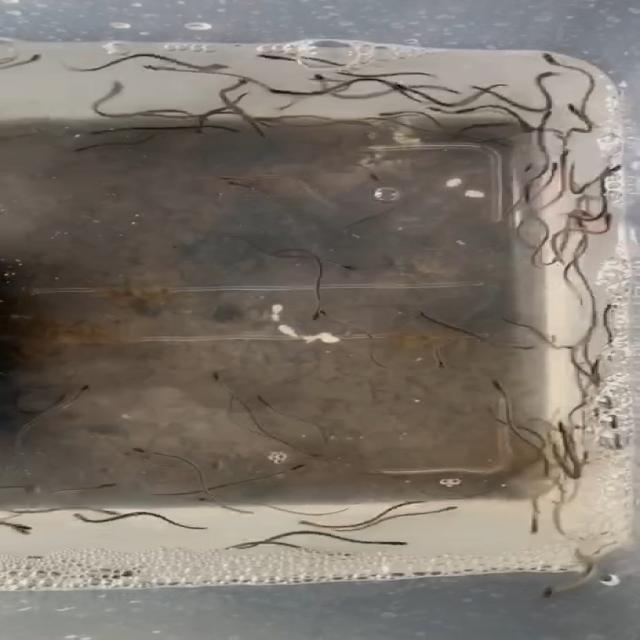inactive_glass_eel: (90, 470, 127, 491), (276, 462, 321, 476), (114, 442, 151, 459), (220, 76, 258, 92), (23, 44, 52, 64), (486, 377, 522, 392), (535, 52, 568, 68), (526, 588, 568, 600), (410, 307, 446, 321), (15, 519, 46, 535), (85, 122, 115, 138), (294, 310, 328, 322), (598, 208, 622, 224), (88, 509, 116, 522), (290, 517, 316, 531), (422, 101, 444, 117), (558, 101, 578, 118), (74, 140, 95, 156), (67, 508, 93, 520), (534, 70, 560, 82), (380, 106, 406, 118), (308, 73, 330, 87), (554, 421, 572, 438), (384, 84, 409, 96), (437, 501, 458, 513), (187, 498, 215, 506), (442, 88, 464, 98), (430, 359, 446, 371), (394, 540, 408, 548)
